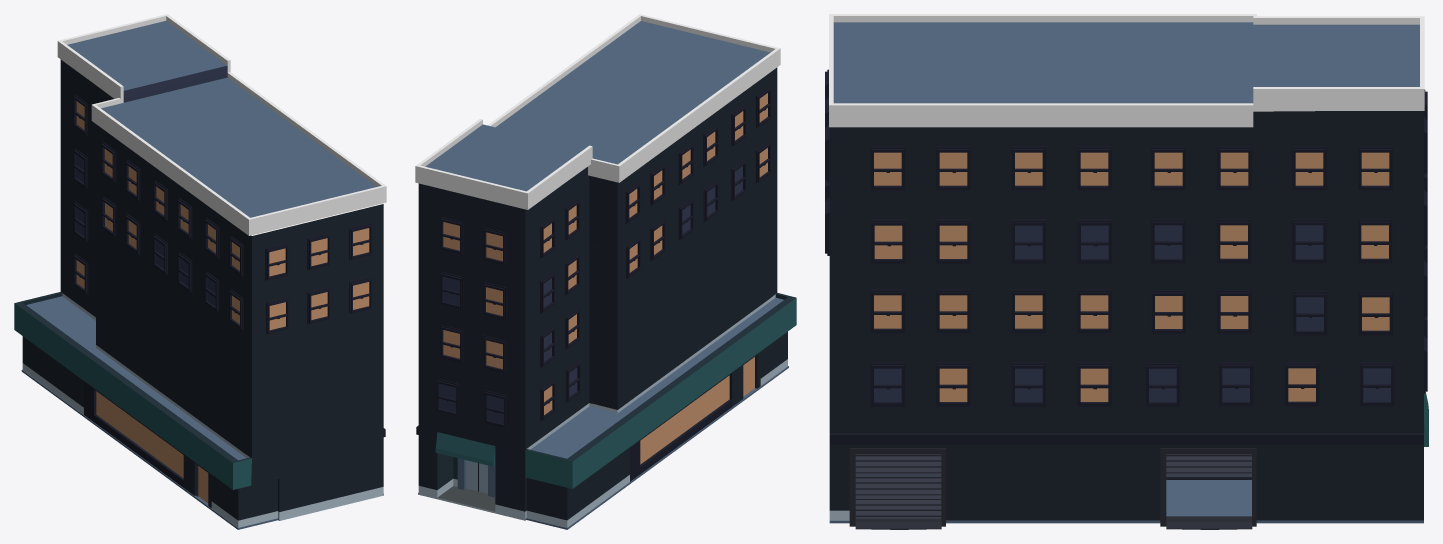
The model's file is Building_GroceryBag.fbx.
3 views of the same model, side by side, from view 1: azimuth 30°, elevation 25°; view 2: azimuth 150°, elevation 25°; view 3: azimuth 270°, elevation 25° (orthographic). The views are drawn at different scales.
Visible parts, largest first — view 1: Cube.554; view 2: Cube.554; view 3: Cube.554.
Boxes of the visible parts, x1,y1,x2,y2 form: Cube.554: (14,14,386,529); Cube.554: (415,14,796,529); Cube.554: (825,14,1428,529).
Size of the model in its own units: 700 by 1393 by 1734.
